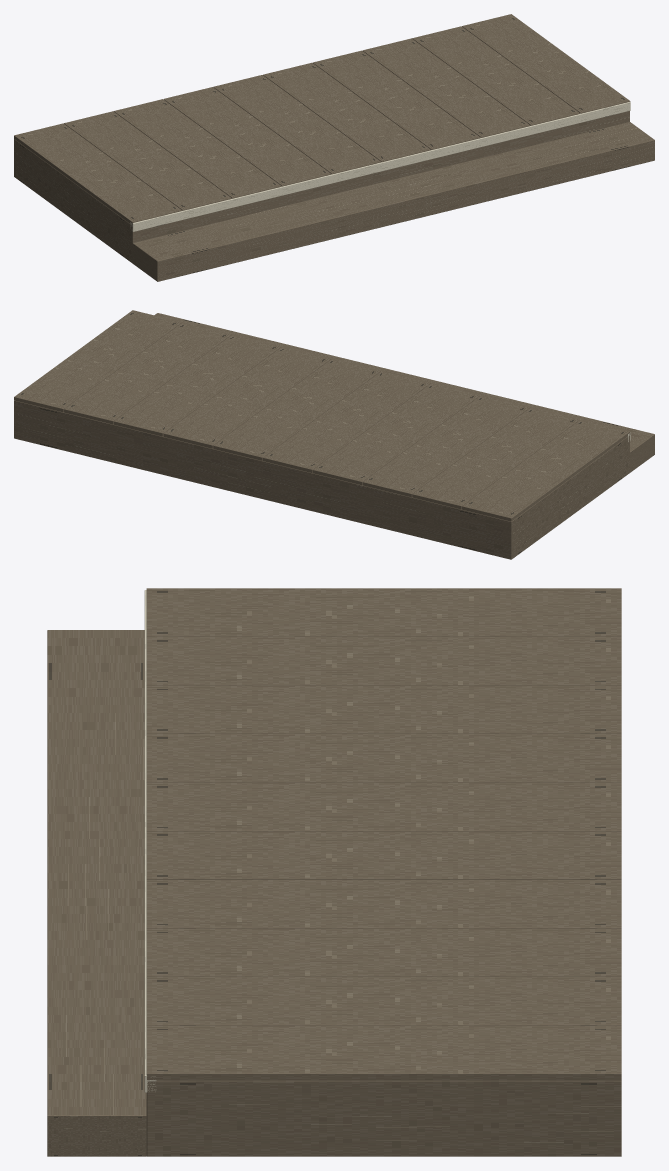
Rendered from house_04_porch_deck.glb.
3 views of the same model, one above another, from view 1: azimuth 30°, elevation 25°; view 2: azimuth 150°, elevation 25°; view 3: azimuth 270°, elevation 25° (orthographic). The views are drawn at different scales.
Parts seen in each view (by area): view 1: house_04_porch_deck; view 2: house_04_porch_deck; view 3: house_04_porch_deck.
Part boxes in pixels (left/top/right/bottom): house_04_porch_deck: left=14, top=14, right=654, bottom=281; house_04_porch_deck: left=14, top=310, right=654, bottom=559; house_04_porch_deck: left=47, top=588, right=621, bottom=1156.
Size of the model in its own units: 3 by 0.24 by 1.5.
2 materials, 2 textured.
